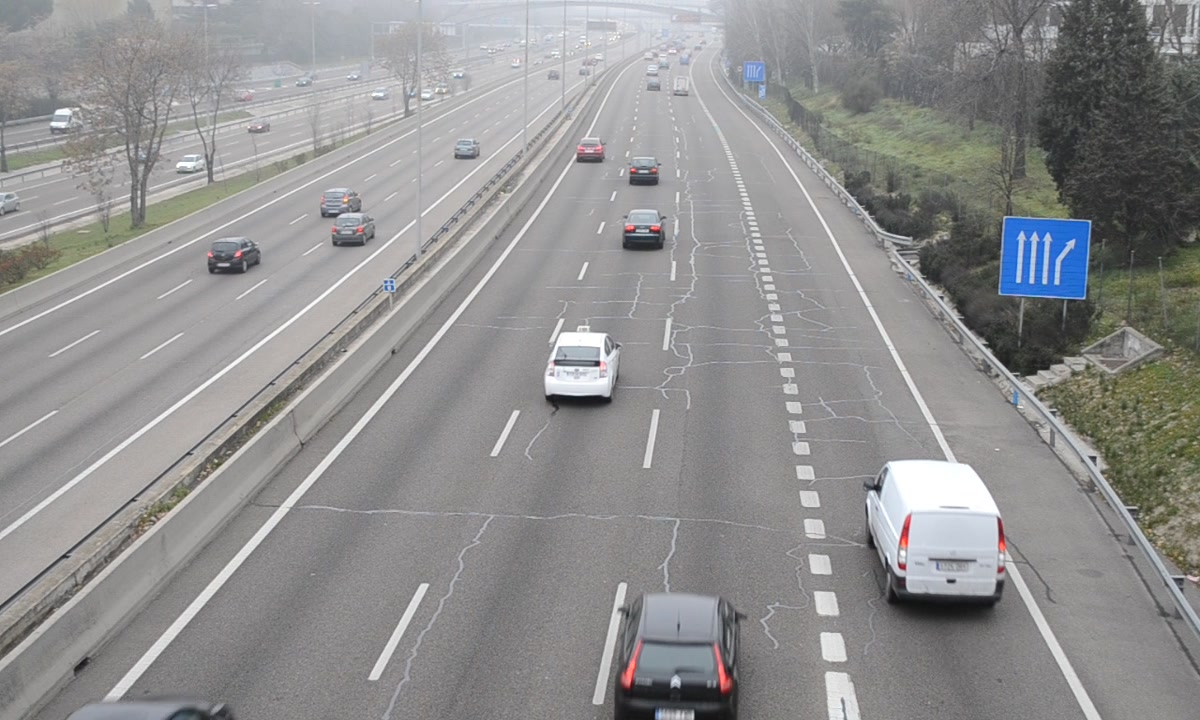car: (607, 596, 743, 720), (545, 331, 618, 398), (622, 209, 666, 248), (628, 154, 660, 186), (575, 135, 605, 163)
van: (866, 461, 1006, 605)
